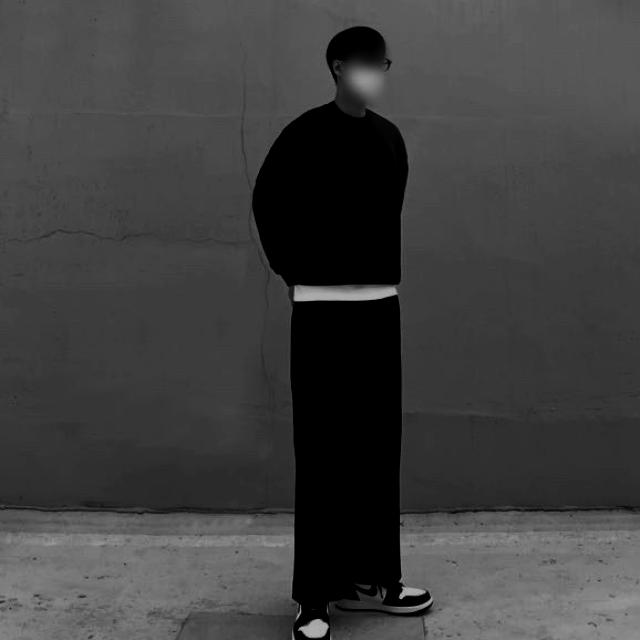mtm: (250, 99, 406, 288)
slacks: (291, 294, 403, 604)
